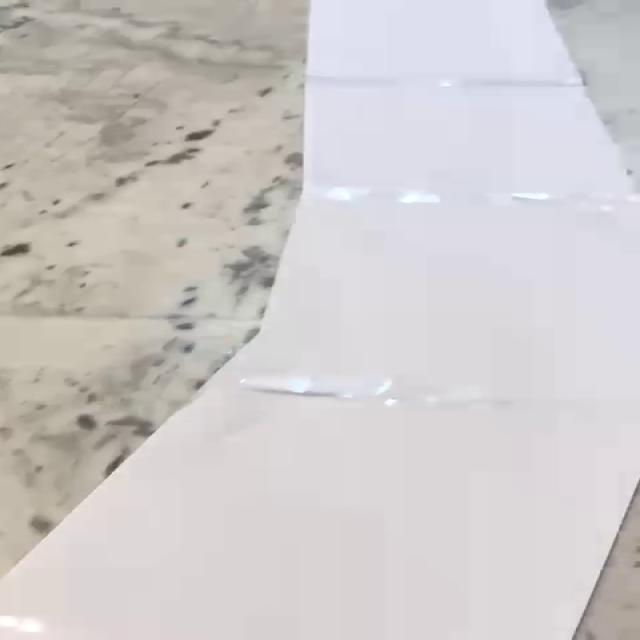road: (0, 0, 640, 640)
